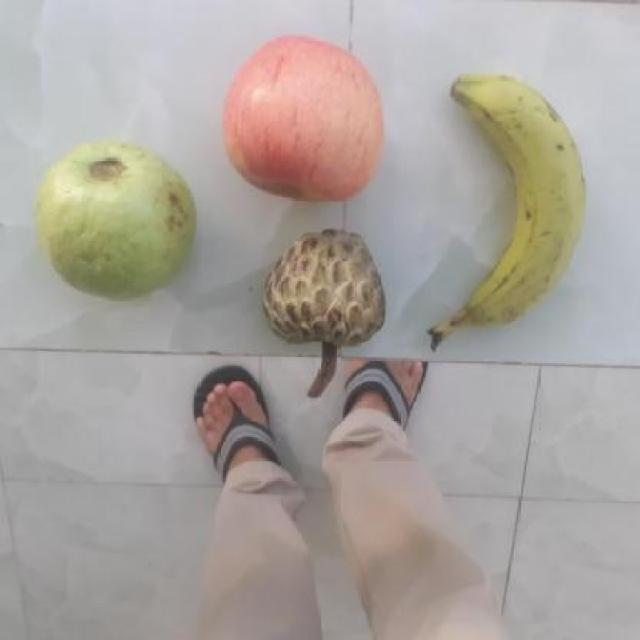apple: (216, 30, 393, 204)
banana: (435, 76, 586, 336)
guava: (27, 141, 196, 294)
sugar apple: (258, 226, 385, 349)
